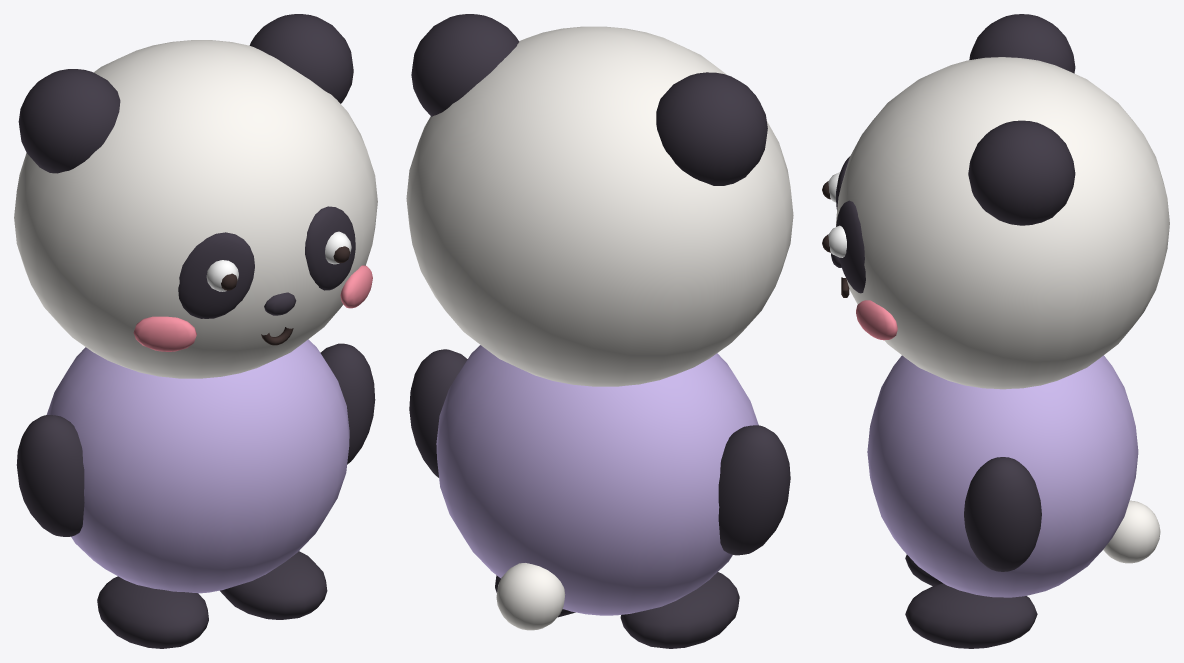
Rendered from cust_panda.glb.
The picture shows the model from 3 angles, left to right: view 1: azimuth 30°, elevation 25°; view 2: azimuth 150°, elevation 25°; view 3: azimuth 270°, elevation 25°; orthographic projection. The views are drawn at different scales.
Parts seen in each view (by area): view 1: Head, Body, ArmL, FootL, FootR, ArmR; view 2: Head, Body, ArmL, FootL, ArmR; view 3: Head, Body, ArmR, FootR.
Boxes of the visible parts, left/top/right/bottom form: Head: left=14, top=14, right=377, bottom=378; Body: left=46, top=339, right=349, bottom=593; ArmL: left=16, top=415, right=84, bottom=536; FootL: left=97, top=576, right=208, bottom=648; FootR: left=220, top=551, right=327, bottom=619; ArmR: left=320, top=343, right=375, bottom=464; Head: left=406, top=14, right=793, bottom=386; Body: left=436, top=345, right=758, bottom=630; ArmL: left=718, top=425, right=790, bottom=555; FootL: left=620, top=572, right=739, bottom=648; ArmR: left=409, top=349, right=467, bottom=477; Head: left=822, top=14, right=1169, bottom=389; Body: left=867, top=355, right=1160, bottom=597; ArmR: left=964, top=457, right=1041, bottom=571; FootR: left=905, top=583, right=1037, bottom=648.
Bounding box in the file's own units: 0.6185 × 0.948 × 0.552.
